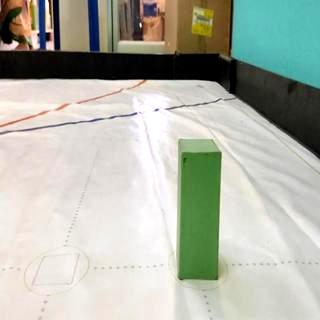greenbox: (177, 136, 220, 280)
